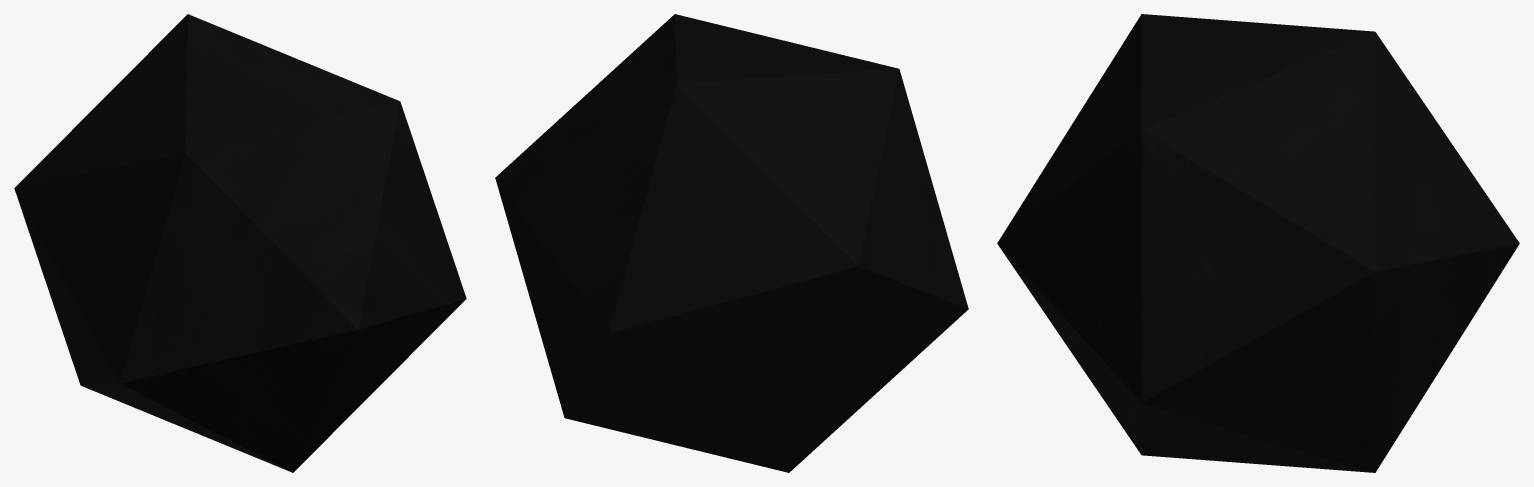
Rendered from mineb.obj.
The picture shows the model from 3 angles, left to right: view 1: azimuth 30°, elevation 25°; view 2: azimuth 150°, elevation 25°; view 3: azimuth 270°, elevation 25°; orthographic projection. The views are drawn at different scales.
Parts seen in each view (by area): view 1: Mine; view 2: Mine; view 3: Mine.
Boxes of the visible parts, bbox=[...] form: Mine: bbox=[14, 14, 466, 472]; Mine: bbox=[495, 14, 968, 472]; Mine: bbox=[997, 14, 1519, 472].
Bounding box in the file's own units: 1.7 × 1.79 × 2.
1 material, 1 textured.
